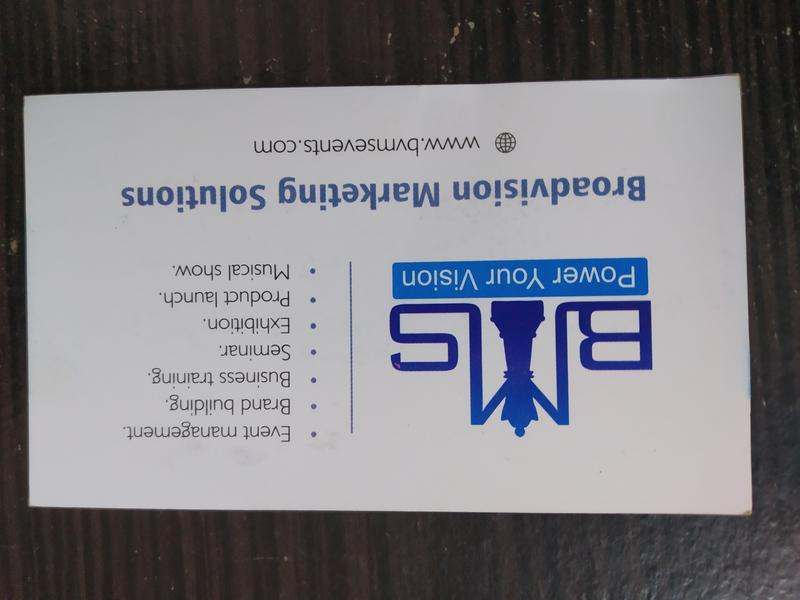card: (20, 79, 754, 515)
